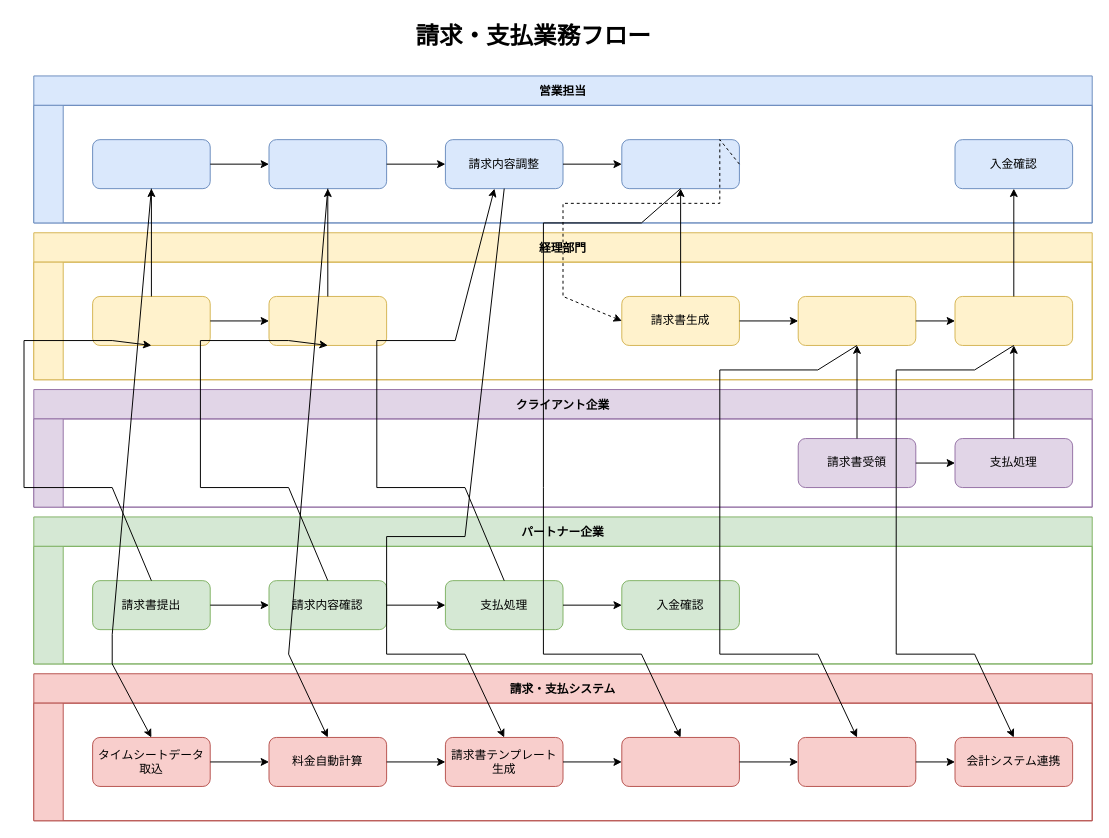
The diagram is 1109 pixels wide and 838 high, and some of its shapes have lost their labels. The shapes that lost their labels are listed below. From the top down, each one's centre as x and y in pixels, then its label:
point (151, 164): 請求情報確認
point (327, 164): 料金計算確認
point (680, 164): 請求承認
point (151, 320): 経費確認
point (327, 320): 税額計算
point (856, 320): 請求書送付
point (1013, 320): 入金処理
point (680, 761): 承認ワークフロー管理
point (856, 761): 電子請求書発行
